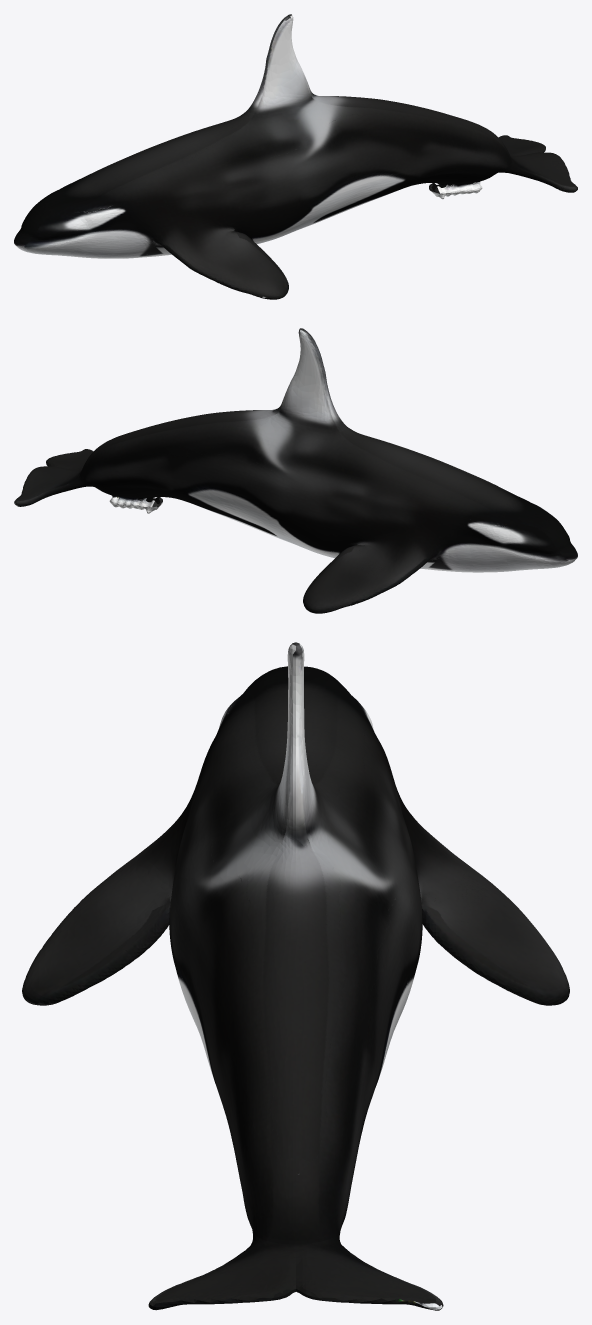
File: paint_mesh_Killer_Whale.glb
3 renders of one model, top to bottom at view 1: azimuth 30°, elevation 25°; view 2: azimuth 150°, elevation 25°; view 3: azimuth 270°, elevation 25°, orthographic. The views are drawn at different scales.
Visible parts, largest first — view 1: world; view 2: world; view 3: world.
Part boxes in pixels (x1,y1,x2,y2): world: (14, 14, 577, 299); world: (14, 328, 577, 613); world: (22, 642, 569, 1310).
Size of the model in its own units: 2 by 0.7885 by 0.8832.
1 material, 1 textured.
